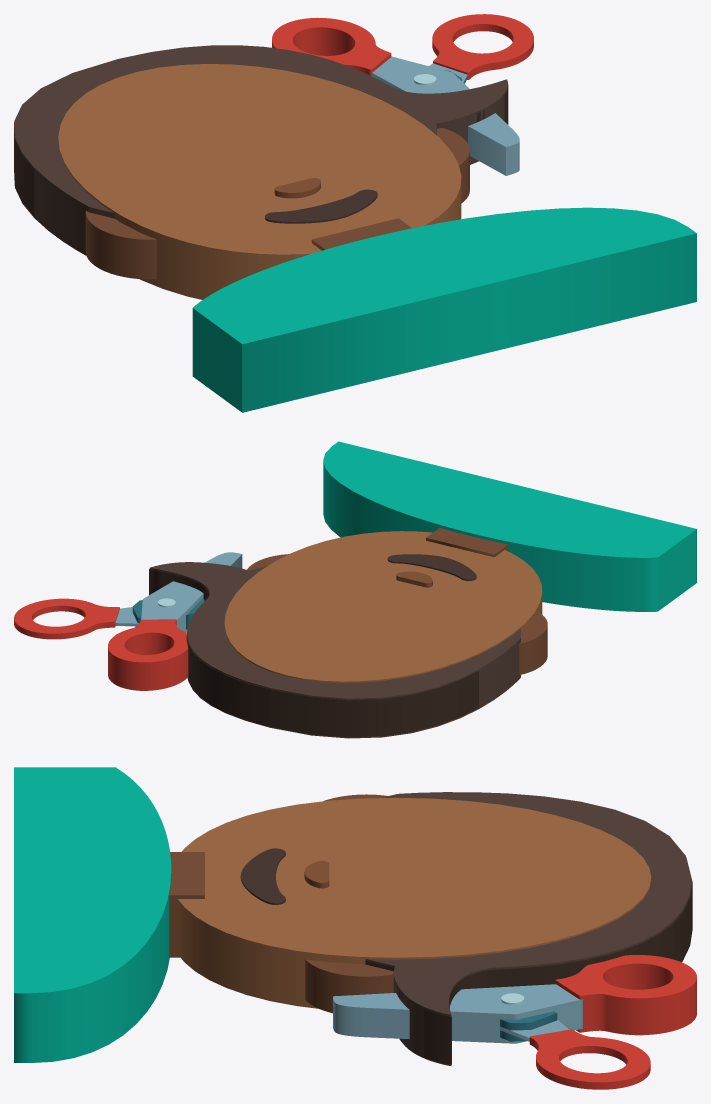
Rendered from emoji_u1f487_1f3fe_200d_2642.glb.
3 renders of one model, top to bottom at view 1: azimuth 30°, elevation 25°; view 2: azimuth 150°, elevation 25°; view 3: azimuth 270°, elevation 25°, orthographic. The views are drawn at different scales.
Visible parts, largest first — view 1: emoji_u1f487_1f3fe_200d_2642; view 2: emoji_u1f487_1f3fe_200d_2642; view 3: emoji_u1f487_1f3fe_200d_2642.
Part boxes in pixels (x1,y1,x2,y2): emoji_u1f487_1f3fe_200d_2642: (14,14,696,412); emoji_u1f487_1f3fe_200d_2642: (14,441,696,738); emoji_u1f487_1f3fe_200d_2642: (14,767,696,1089).
Size of the model in its own units: 0.0331 by 0.0038 by 0.0337.
